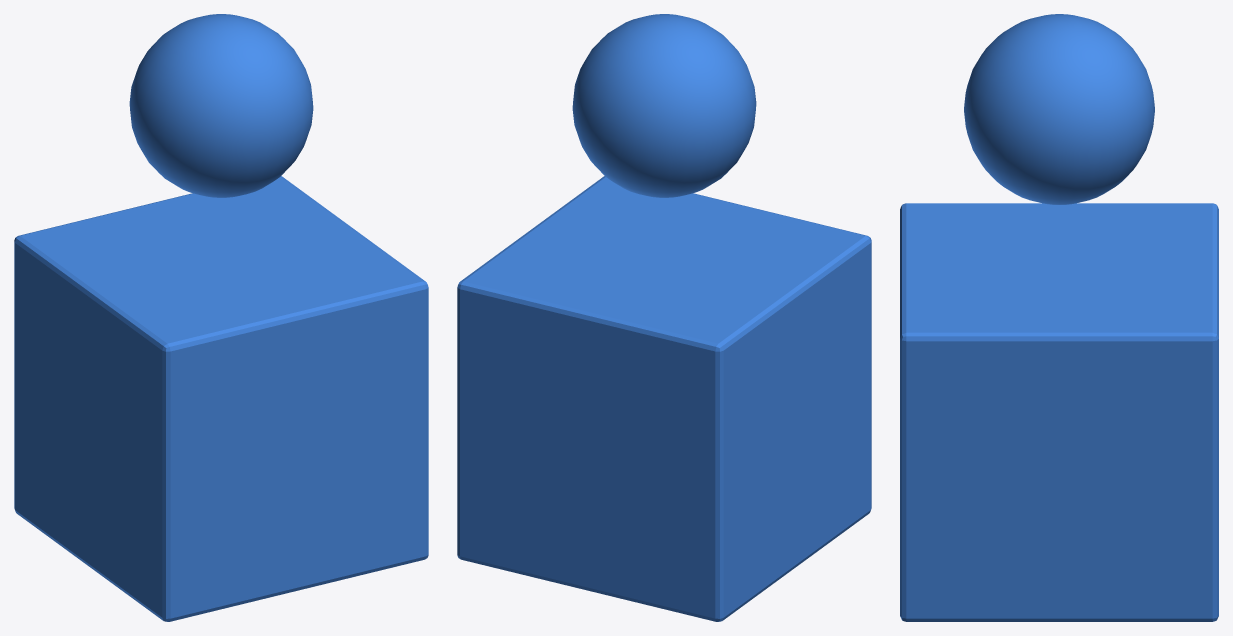
The model's file is solidi.glb.
3 views of the same model, side by side, from view 1: azimuth 30°, elevation 25°; view 2: azimuth 150°, elevation 25°; view 3: azimuth 270°, elevation 25° (orthographic). The views are drawn at different scales.
Visible parts, largest first — view 1: Cube, Sphere; view 2: Cube, Sphere; view 3: Cube, Sphere.
Part boxes in pixels (box(x1,y1,x2,y2)): Cube: box(14, 176, 428, 621); Sphere: box(129, 14, 313, 197); Cube: box(457, 176, 871, 621); Sphere: box(572, 14, 756, 197); Cube: box(900, 203, 1218, 621); Sphere: box(964, 14, 1154, 204).
Bounding box in the file's own units: 0.05 × 0.0924 × 0.05.
